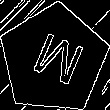M_SW: (23, 27, 84, 91)
